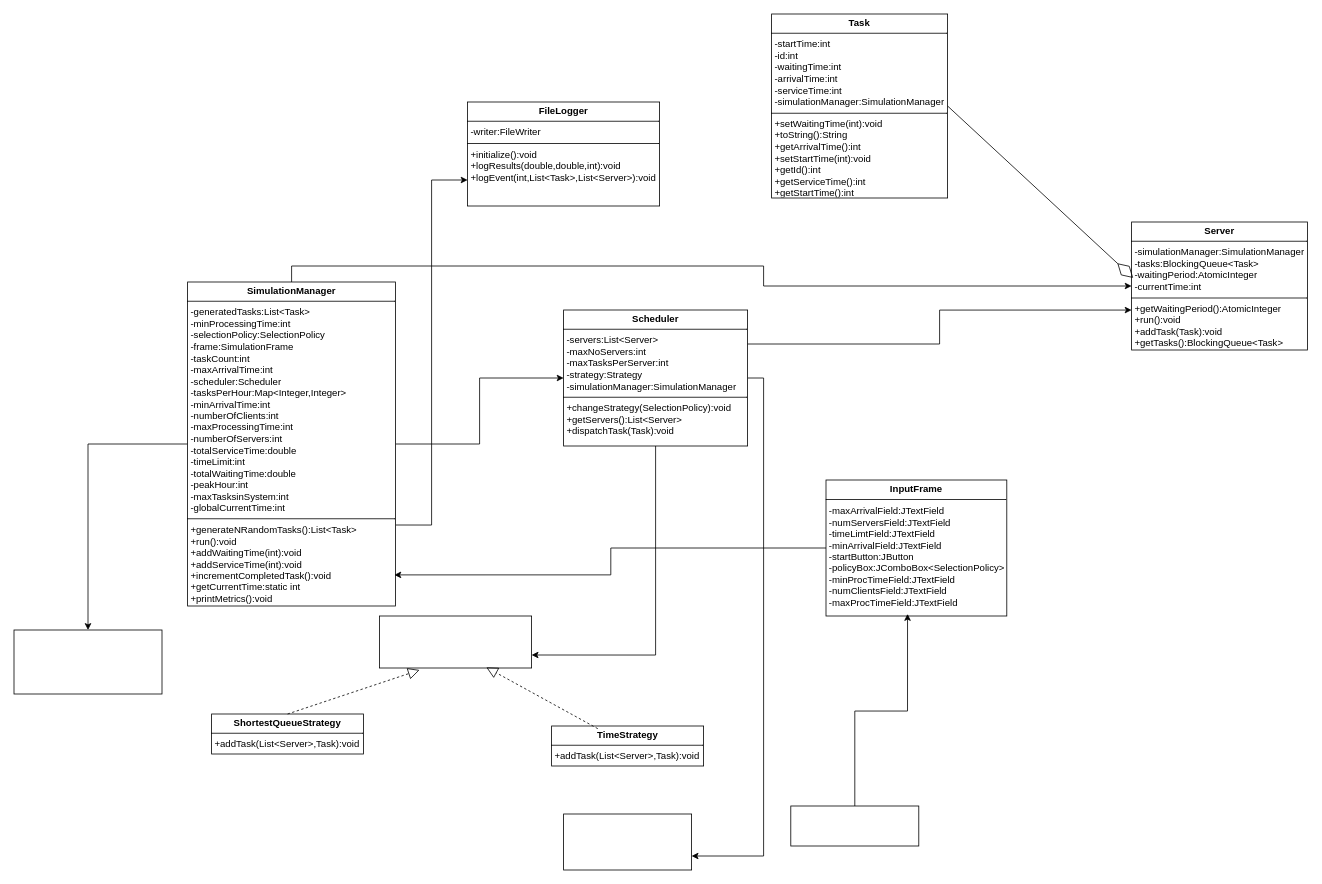
Image size: 1322x884. Some labels were removed from this diagram. Each missing label, with the centre of its shape:
<<Interface>> Strategy +addTask(List<Server>,Task):void: the point at 455,641
Main +main(String[]):void: the point at 854,825
SelectionPolicy -SHORTEST_QUEUE -SHORTEST_TIME: the point at 627,841
SimulationFrame -textArea:JTextArea +updateUI(List<Server>,int):void: the point at 87,661
